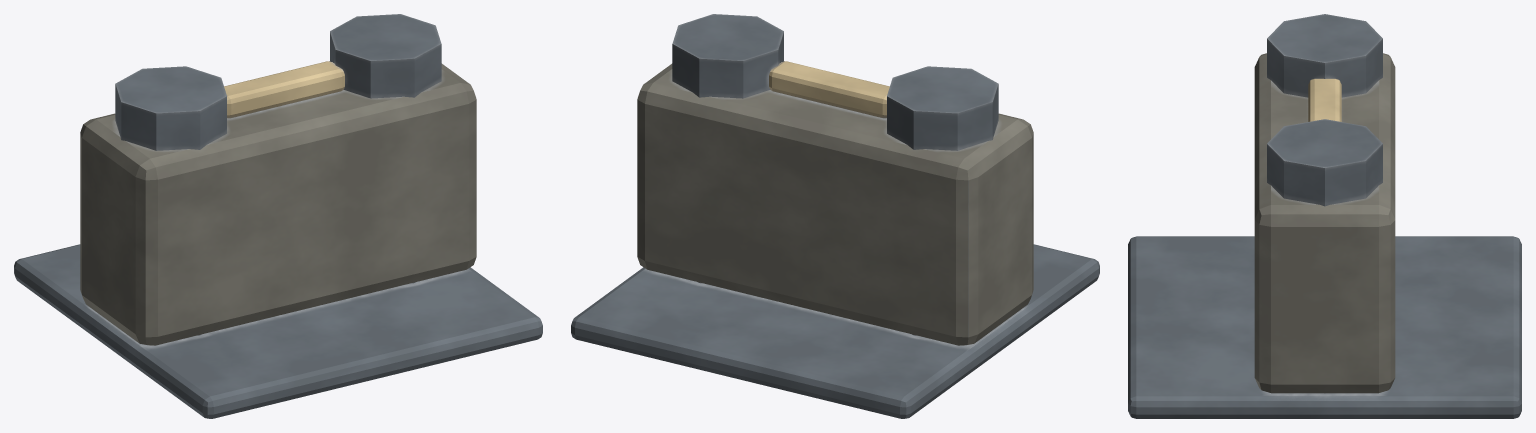
File: com_wall_straight.glb
The picture shows the model from 3 angles, left to right: view 1: azimuth 30°, elevation 25°; view 2: azimuth 150°, elevation 25°; view 3: azimuth 270°, elevation 25°; orthographic projection.
Visible parts, largest first — view 1: com_wall_straight; view 2: com_wall_straight; view 3: com_wall_straight.
Part boxes in pixels (<box>): com_wall_straight: <box>14,14,542,418</box>; com_wall_straight: <box>571,14,1099,418</box>; com_wall_straight: <box>1128,14,1521,418</box>.
Size of the model in its own units: 0.95 by 0.66 by 0.95.
1 material, 1 textured.
